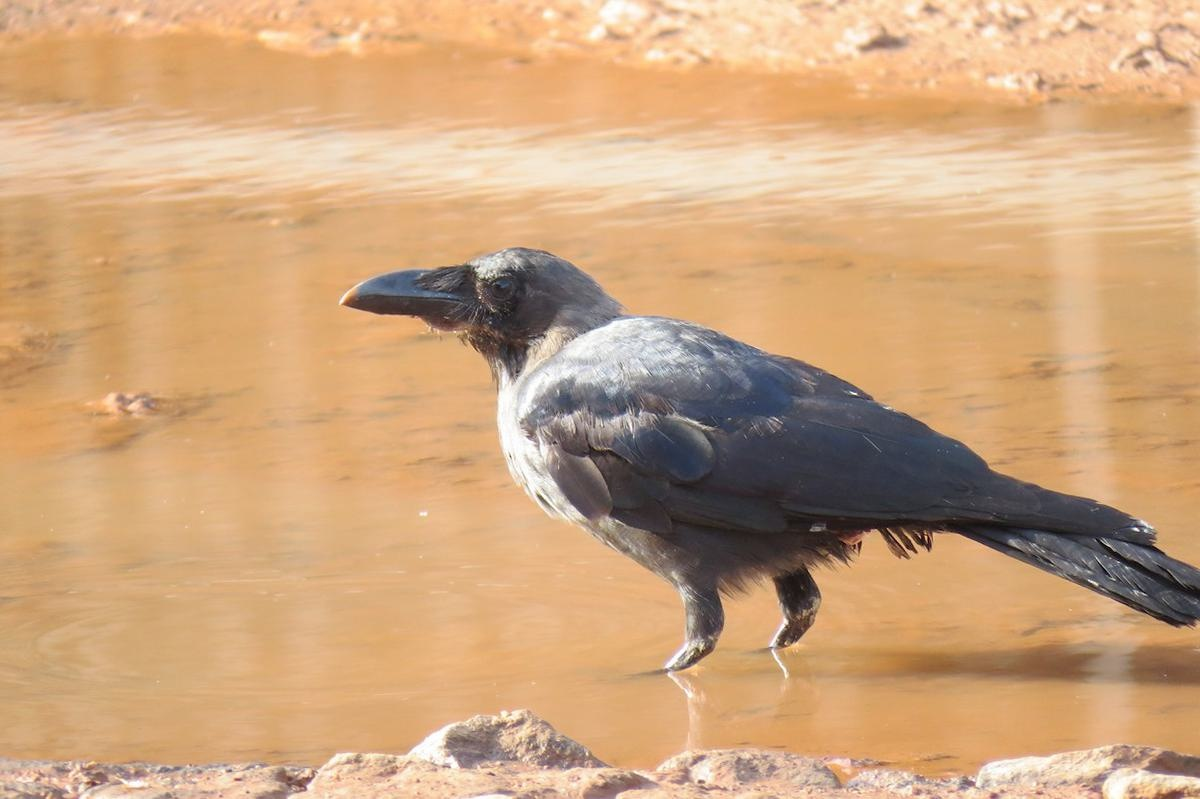crow: (335, 242, 1200, 726)
